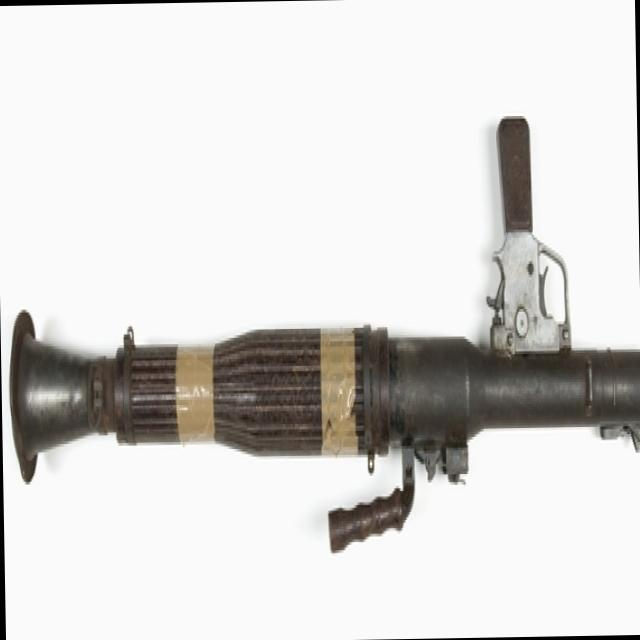Gun: (0, 65, 640, 603)
